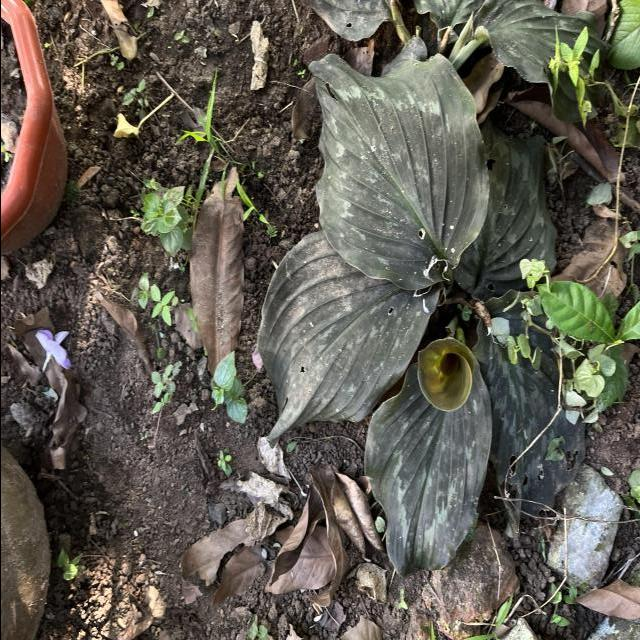Kaempferia galanga linn: (306, 52, 492, 296), (253, 229, 444, 452), (361, 360, 493, 581)
